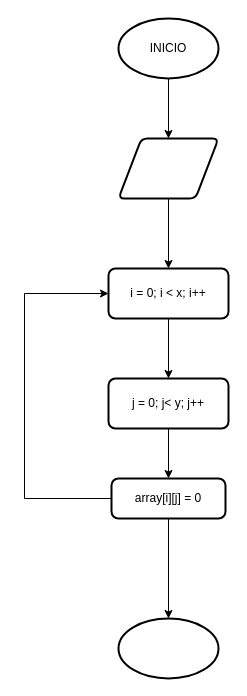
The diagram is 247 pixels wide and 696 high, and some of its shapes have lost their labels. Each missing label, with the centre of its shape:
array[x][y]: (168,168)
FIM: (168,648)
